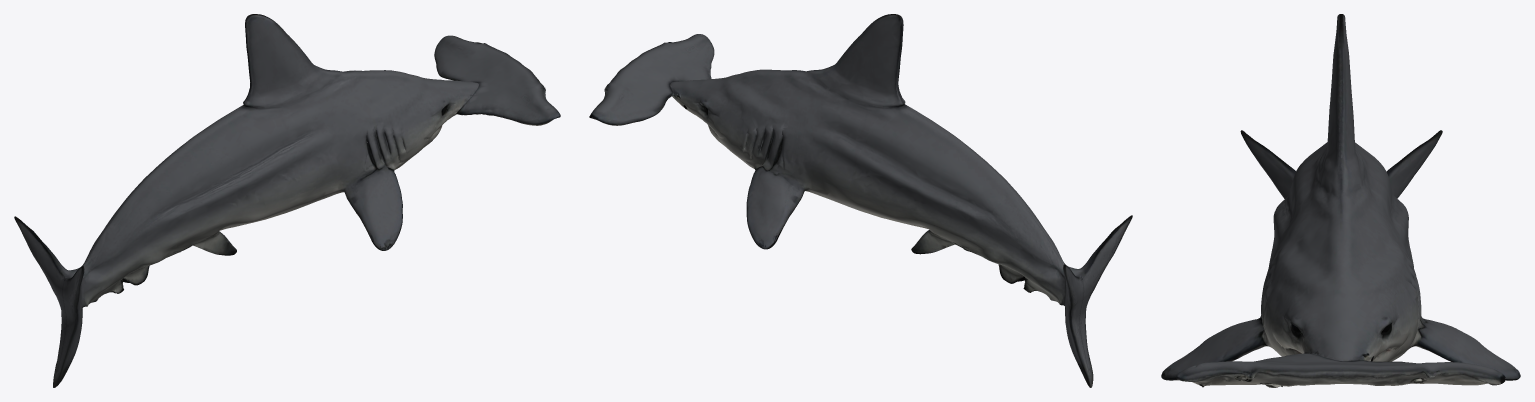
File: hammer.glb
The picture shows the model from 3 angles, left to right: view 1: azimuth 30°, elevation 25°; view 2: azimuth 150°, elevation 25°; view 3: azimuth 270°, elevation 25°; orthographic projection. The views are drawn at different scales.
Parts seen in each view (by area): view 1: tripo_node_7dad282a-6eca-4173-afcf-a5232bbd6df7; view 2: tripo_node_7dad282a-6eca-4173-afcf-a5232bbd6df7; view 3: tripo_node_7dad282a-6eca-4173-afcf-a5232bbd6df7.
Boxes of the visible parts, x1,y1,x2,y2 form: tripo_node_7dad282a-6eca-4173-afcf-a5232bbd6df7: (14,14,560,387); tripo_node_7dad282a-6eca-4173-afcf-a5232bbd6df7: (589,14,1132,387); tripo_node_7dad282a-6eca-4173-afcf-a5232bbd6df7: (1161,14,1520,387).
Bounding box in the file's own units: 0.9796 × 0.648 × 0.4388.
1 material, 1 textured.
